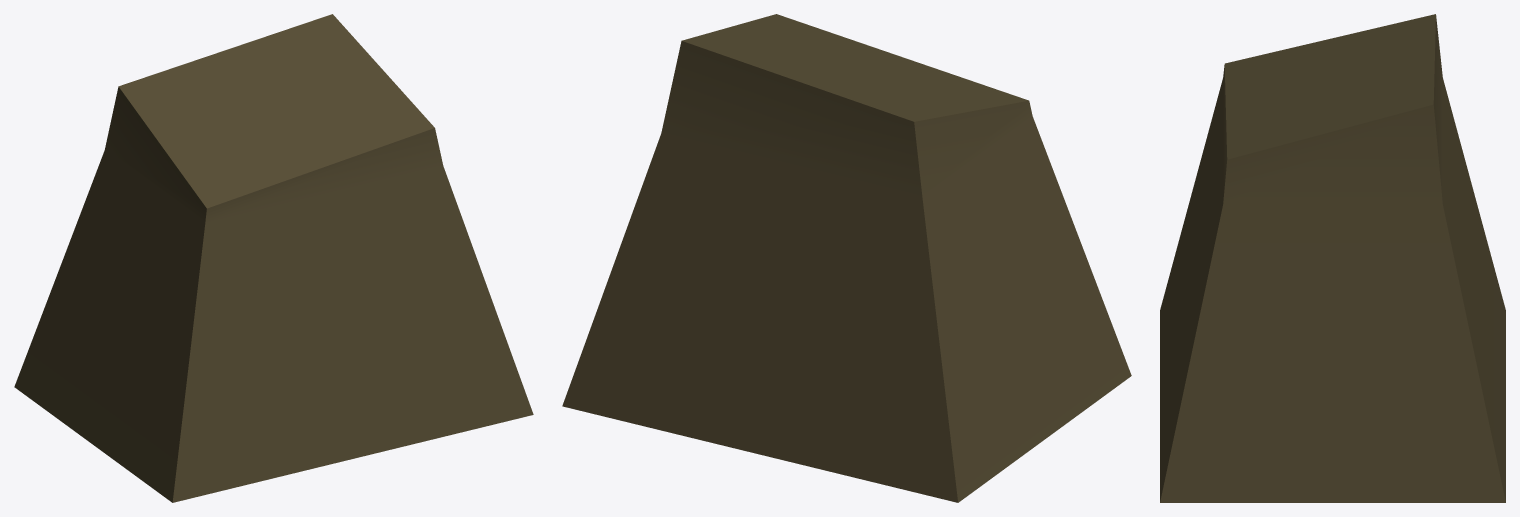
Rendered from Tree2Stump.fbx.
3 renders of one model, left to right at view 1: azimuth 30°, elevation 25°; view 2: azimuth 150°, elevation 25°; view 3: azimuth 270°, elevation 25°, orthographic. The views are drawn at different scales.
Parts seen in each view (by area): view 1: pasted__pasted__pCube1; view 2: pasted__pasted__pCube1; view 3: pasted__pasted__pCube1.
Boxes of the visible parts, <box> form: pasted__pasted__pCube1: <box>14,14,533,502</box>; pasted__pasted__pCube1: <box>562,14,1131,502</box>; pasted__pasted__pCube1: <box>1160,14,1505,502</box>.
Size of the model in its own units: 3.64 by 3.15 by 2.76.
